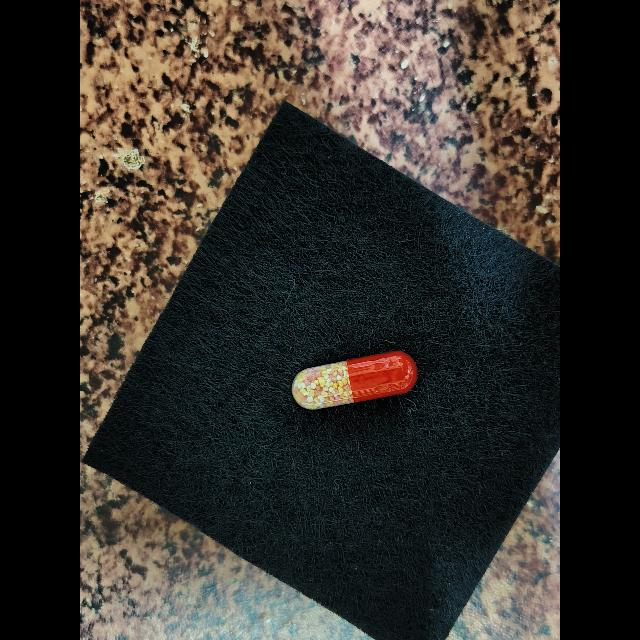Intact Capsule: (292, 351, 417, 410)
